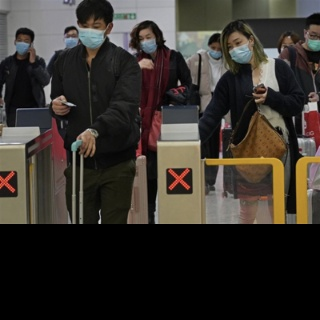with_mask: (78, 20, 105, 51), (228, 37, 252, 64), (137, 32, 158, 56), (15, 36, 32, 55), (307, 30, 320, 51), (208, 44, 224, 59), (65, 32, 79, 48)
